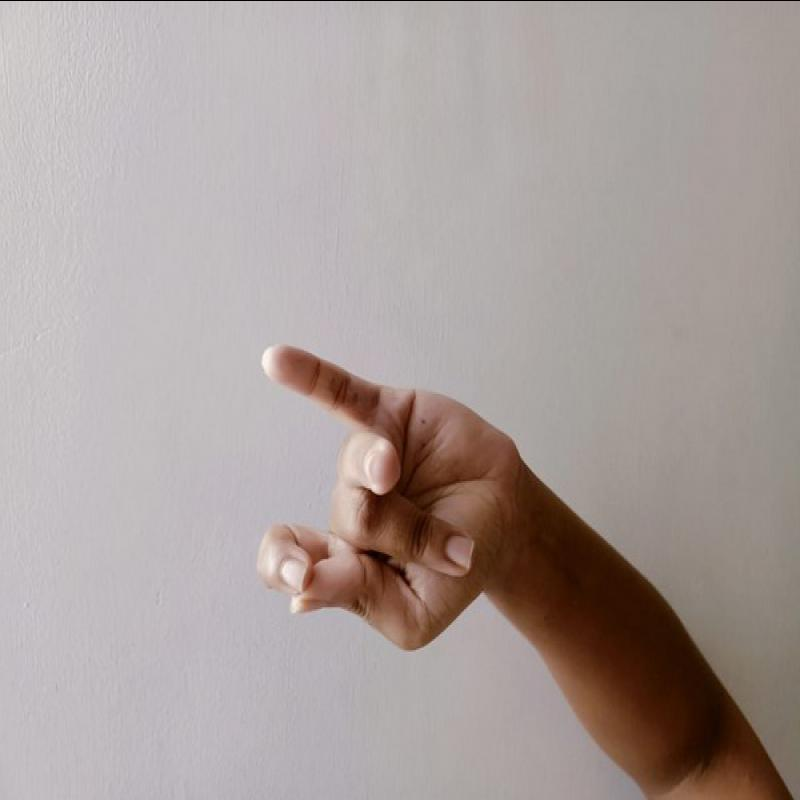Katakam: (223, 328, 537, 656)
